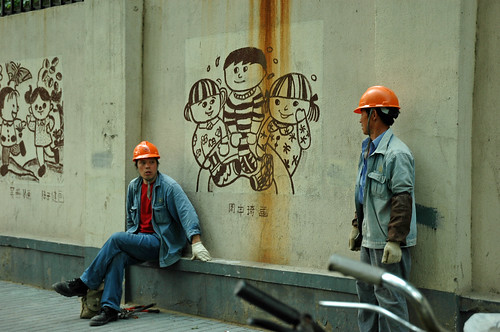person hardhat: (52, 132, 214, 328), (348, 83, 427, 332)
